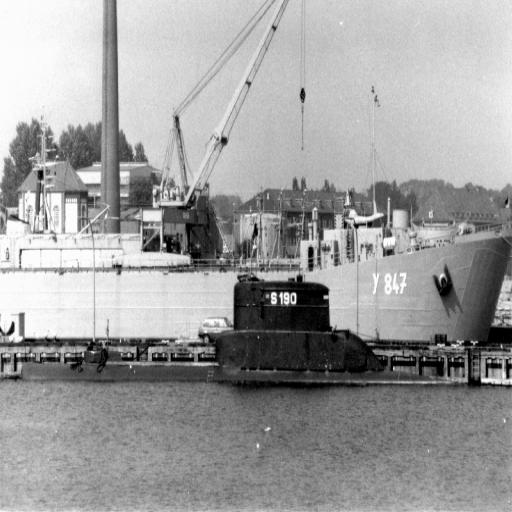submarine: (20, 283, 436, 383)
